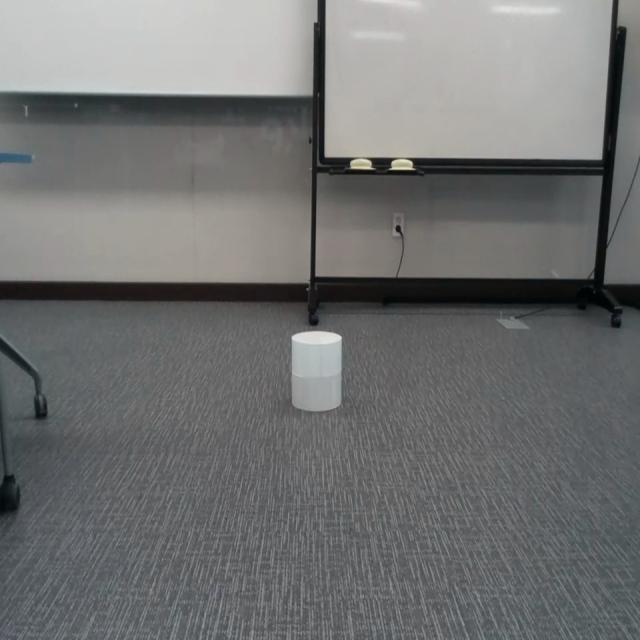cylinder: (290, 331, 342, 412)
